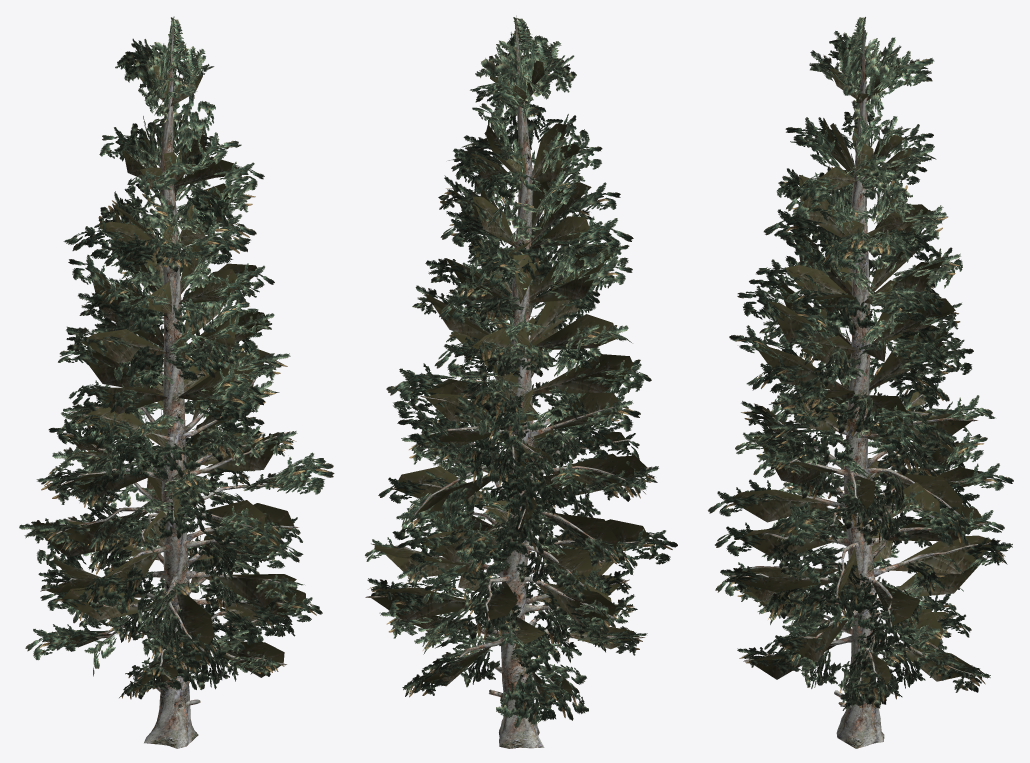
File: BlueSpruce_3.fbx
3 renders of one model, left to right at view 1: azimuth 30°, elevation 25°; view 2: azimuth 150°, elevation 25°; view 3: azimuth 270°, elevation 25°, orthographic.
Visible parts, largest first — view 1: BlueSpruce_3; view 2: BlueSpruce_3; view 3: BlueSpruce_3.
Boxes of the visible parts, left/top/right/bottom form: BlueSpruce_3: left=19, top=16, right=334, bottom=748; BlueSpruce_3: left=365, top=15, right=677, bottom=748; BlueSpruce_3: left=708, top=17, right=1013, bottom=748.
Size of the model in its own units: 12.96 by 32.89 by 12.7.
